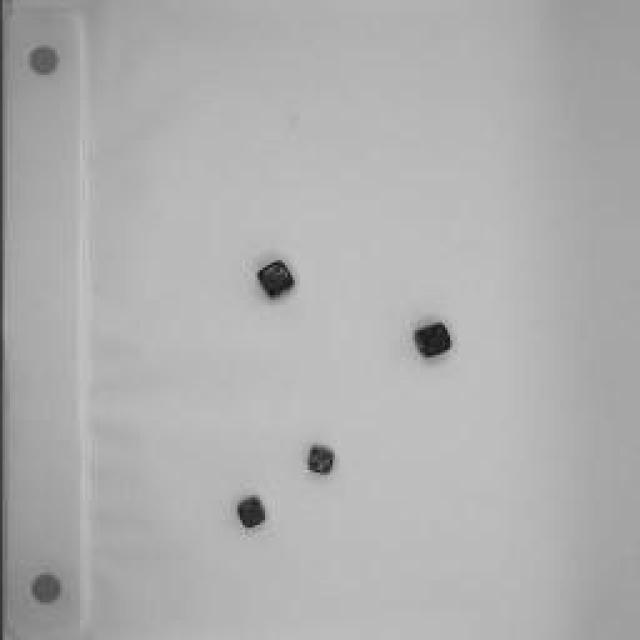dice_2: (250, 255, 298, 305), (232, 492, 268, 532)
dice_3: (407, 316, 455, 364)
dice_4: (304, 442, 338, 480)
